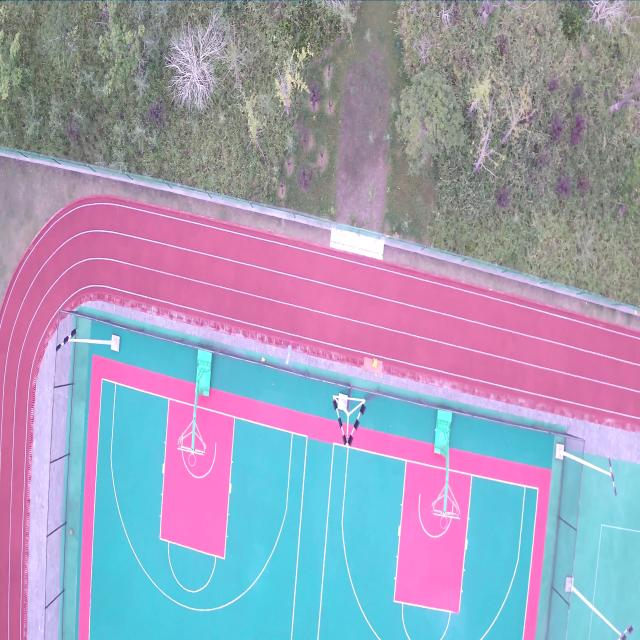UAV: (279, 342, 300, 374)
